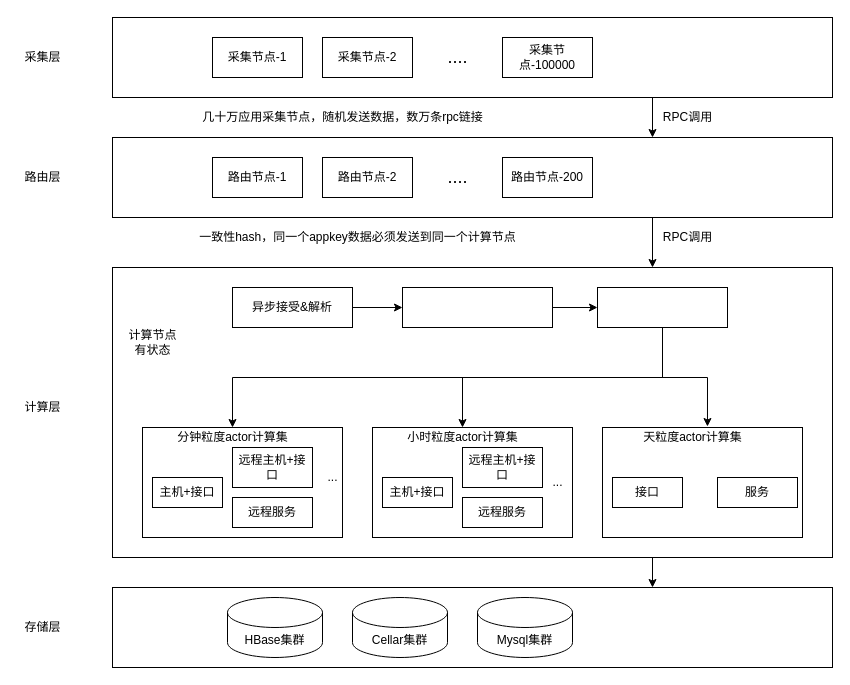
Some shapes in this 850 by 685 pixel diagram are drawn without their labels. The box of each missing label's shape, as (x1, y1, x2, y2) in pixels:
维度管理actor: (596, 286, 728, 328)
计算模型构建actor: (402, 286, 552, 328)
